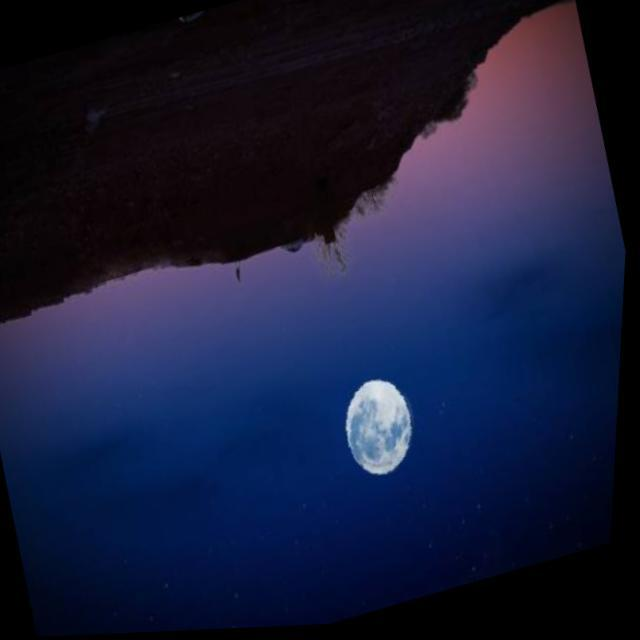moon: (335, 370, 439, 493)
